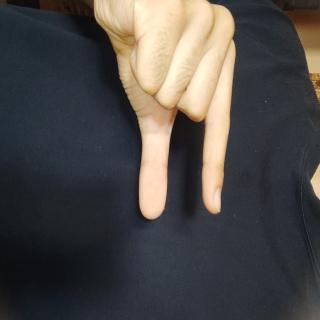DELL: (0, 95, 167, 320)
